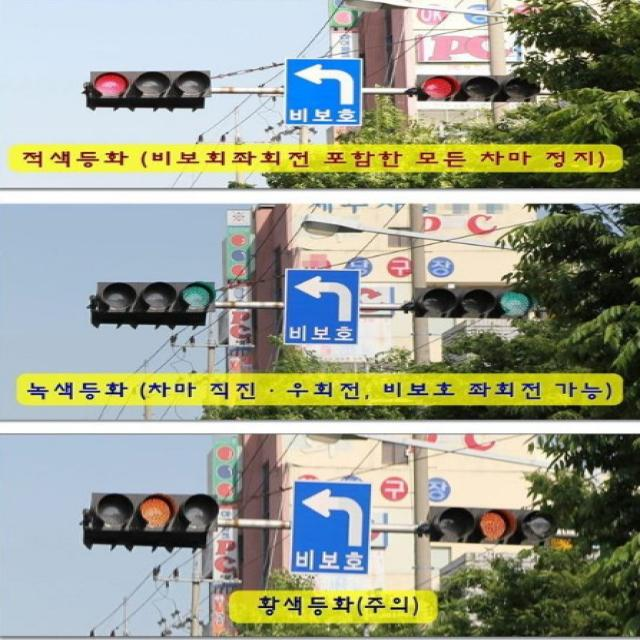Green Light: (176, 278, 217, 312), (494, 288, 536, 318)
Red Light: (416, 74, 462, 103), (89, 71, 131, 100)
Yellow Light: (128, 488, 177, 534), (474, 506, 516, 545)
